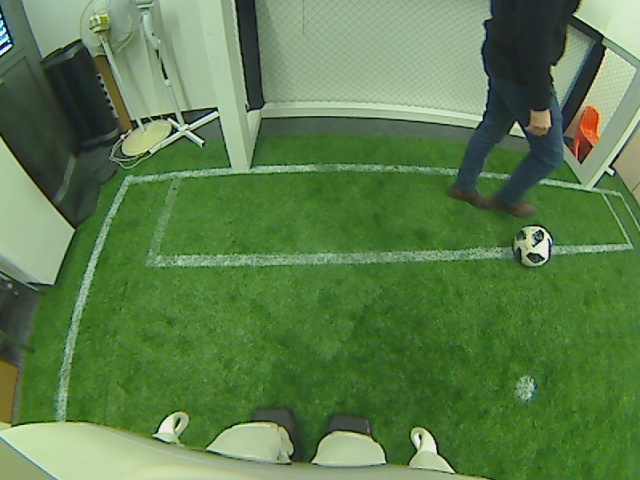ball: (509, 223, 554, 267)
